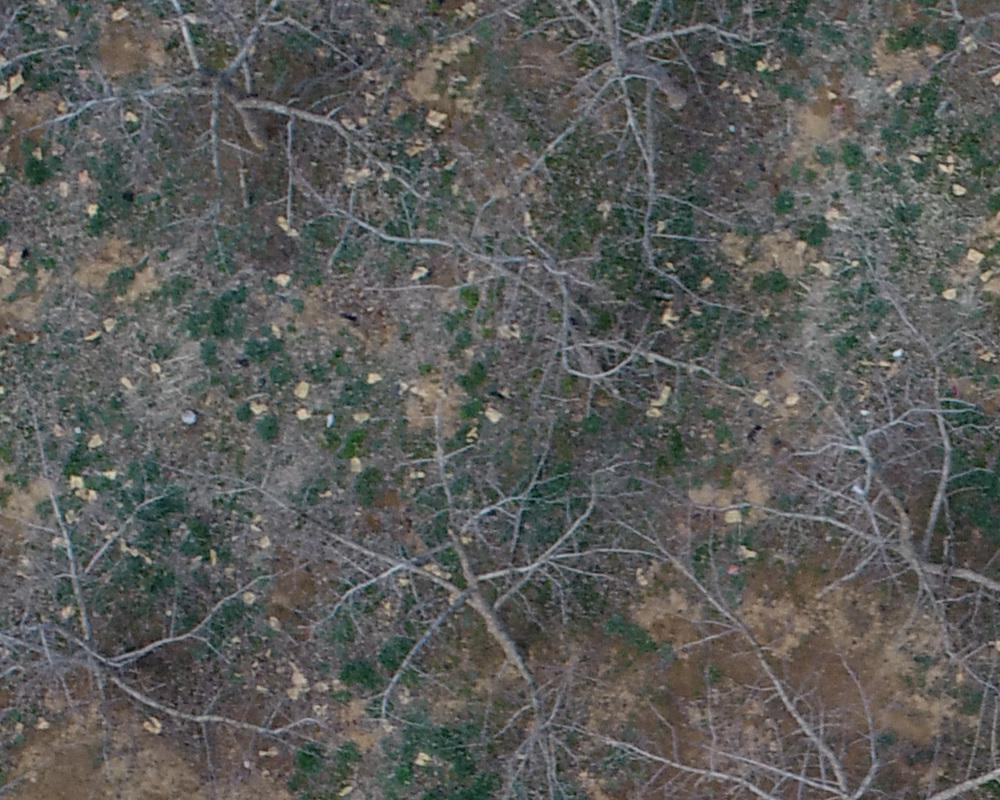apple: (297, 408, 641, 760), (10, 404, 314, 758), (373, 188, 760, 434), (617, 535, 990, 790), (790, 278, 990, 678), (523, 10, 778, 299), (87, 10, 420, 219)
